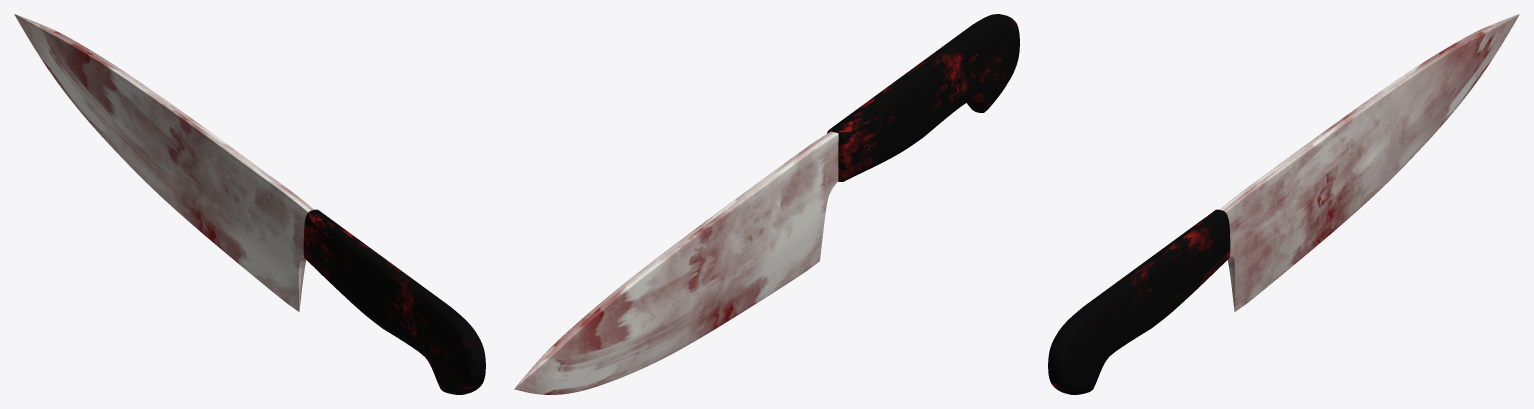
The model's file is KnifeFinal.fbx.
3 renders of one model, left to right at view 1: azimuth 30°, elevation 25°; view 2: azimuth 150°, elevation 25°; view 3: azimuth 330°, elevation 25°, orthographic. The views are drawn at different scales.
Parts seen in each view (by area): view 1: Plane, Cube; view 2: Plane, Cube; view 3: Plane, Cube.
Part boxes in pixels (bbox=[...]): Plane: bbox=[14, 14, 314, 311]; Cube: bbox=[303, 209, 485, 394]; Plane: bbox=[514, 131, 838, 394]; Cube: bbox=[827, 14, 1019, 181]; Plane: bbox=[1219, 14, 1519, 311]; Cube: bbox=[1048, 209, 1230, 394].
Size of the model in its own units: 11.07 by 62.3 by 466.
2 materials, 2 textured.
